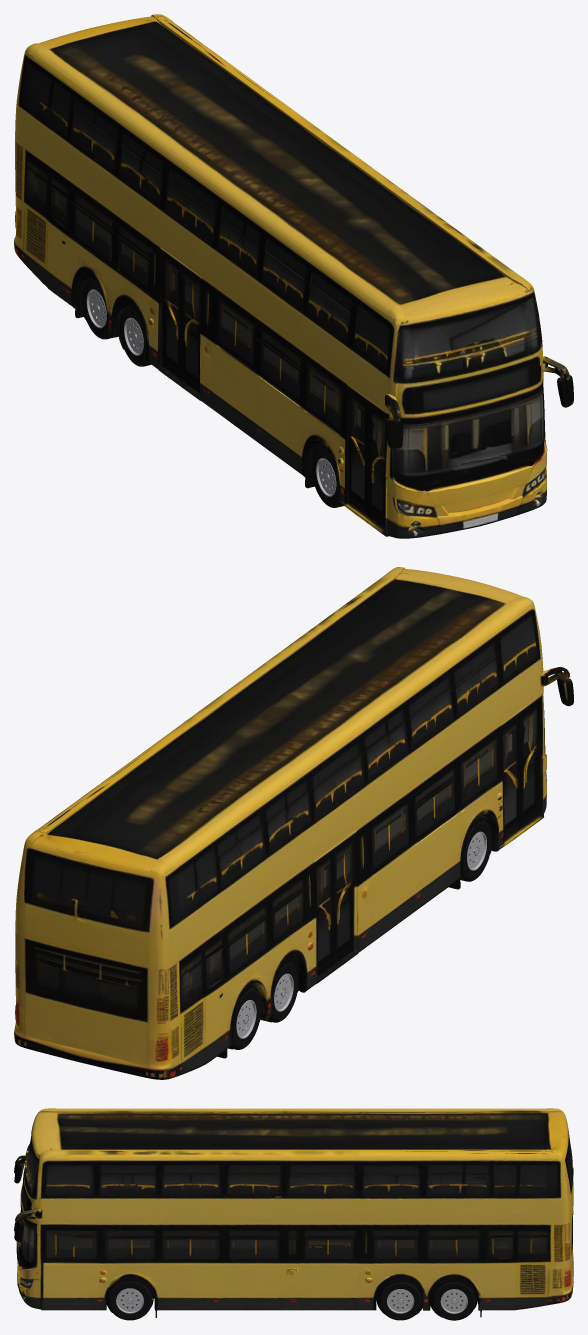
The model's file is bus.glb.
3 renders of one model, top to bottom at view 1: azimuth 30°, elevation 25°; view 2: azimuth 150°, elevation 25°; view 3: azimuth 270°, elevation 25°, orthographic. The views are drawn at different scales.
Visible parts, largest first — view 1: karosserie, rad_vr, rad_hr, rad_hr2; view 2: karosserie, rad_vr, rad_hr2, rad_hr; view 3: karosserie, rad_vl, rad_hl2, rad_hl.
Boxes of the visible parts, bbox=[...] form: karosserie: bbox=[14, 14, 573, 538]; rad_vr: bbox=[311, 446, 343, 507]; rad_hr: bbox=[119, 306, 151, 366]; rad_hr2: bbox=[82, 278, 124, 339]; karosserie: bbox=[14, 567, 573, 1079]; rad_vr: bbox=[460, 820, 491, 881]; rad_hr2: bbox=[232, 988, 261, 1049]; rad_hr: bbox=[255, 962, 298, 1022]; karosserie: bbox=[14, 1108, 573, 1317]; rad_vl: bbox=[107, 1281, 152, 1320]; rad_hl2: bbox=[432, 1282, 475, 1320]; rad_hl: bbox=[378, 1281, 422, 1320].
Size of the model in its own units: 3.7 by 4.48 by 13.73.
Materials: 3 (1 with a texture image).
